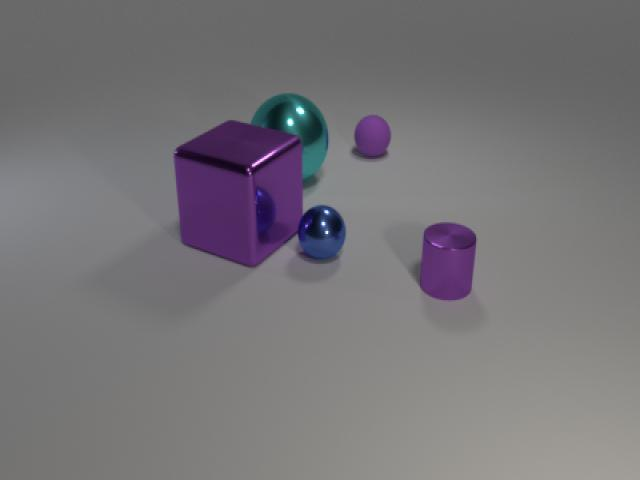cylinder: (416, 216, 480, 306)
round ball: (245, 89, 333, 186), (295, 200, 349, 267), (348, 109, 399, 162)
